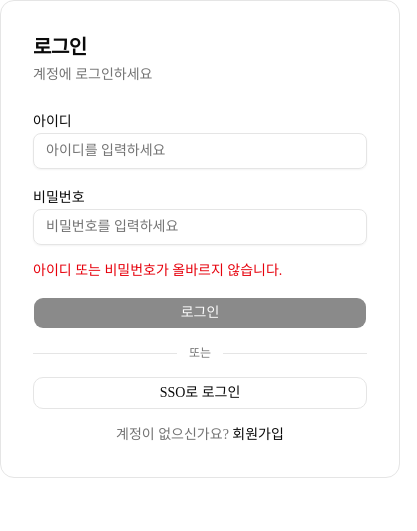
Test case: LoginCard › 회원가입 탭으로 전환할 수 있다
The image size is (417, 531).
Click the button "회원가입". click: [258, 435]
box: [232,425,284,445]
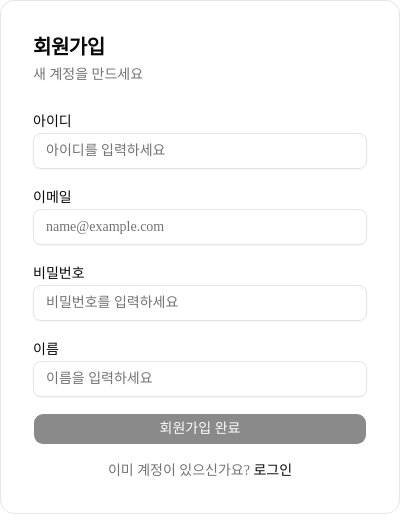
Expected: the field labelled "이메일" is shown, [33,209,367,245]
Expected: the field labelled "이름" is shown, [33,361,367,397]
